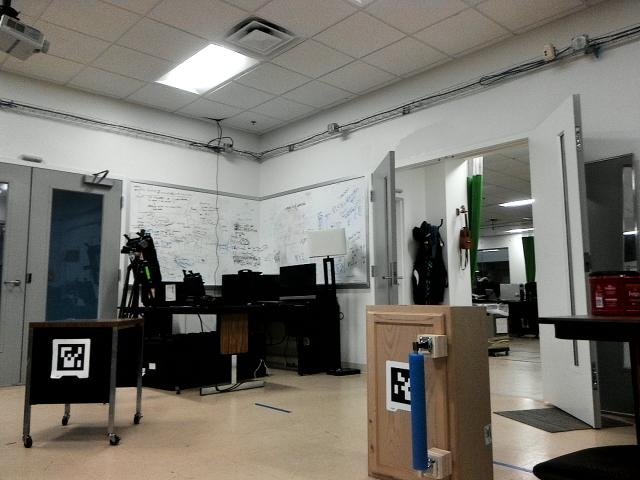noodle_handle: (407, 349, 432, 470)
